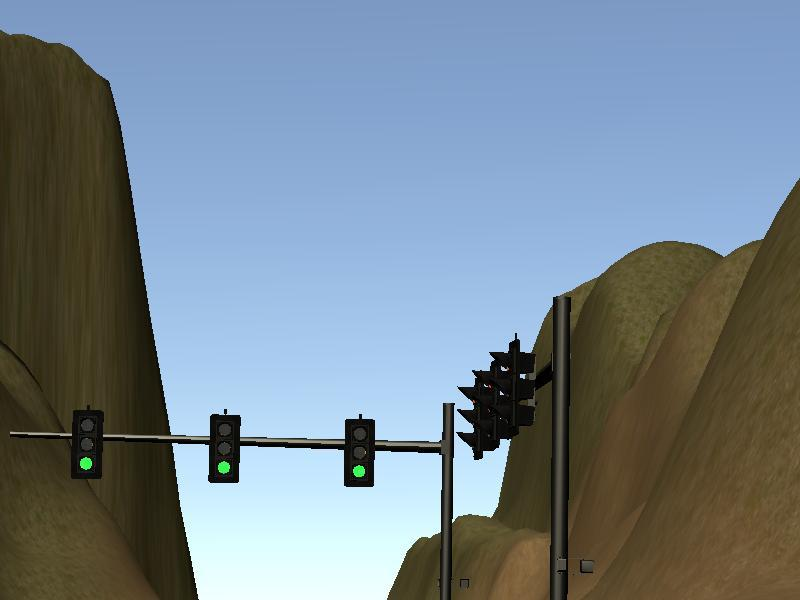Green: (209, 414, 240, 482), (344, 418, 375, 486), (71, 411, 102, 479)
